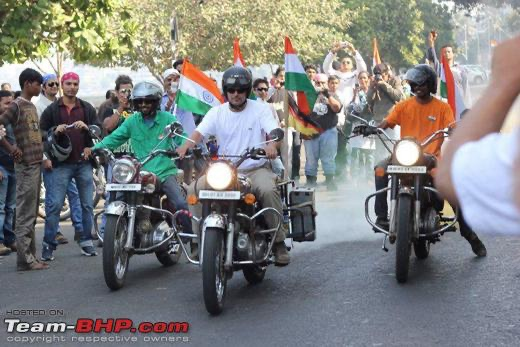helmet: (221, 63, 255, 111), (129, 78, 165, 119), (405, 62, 439, 101)
